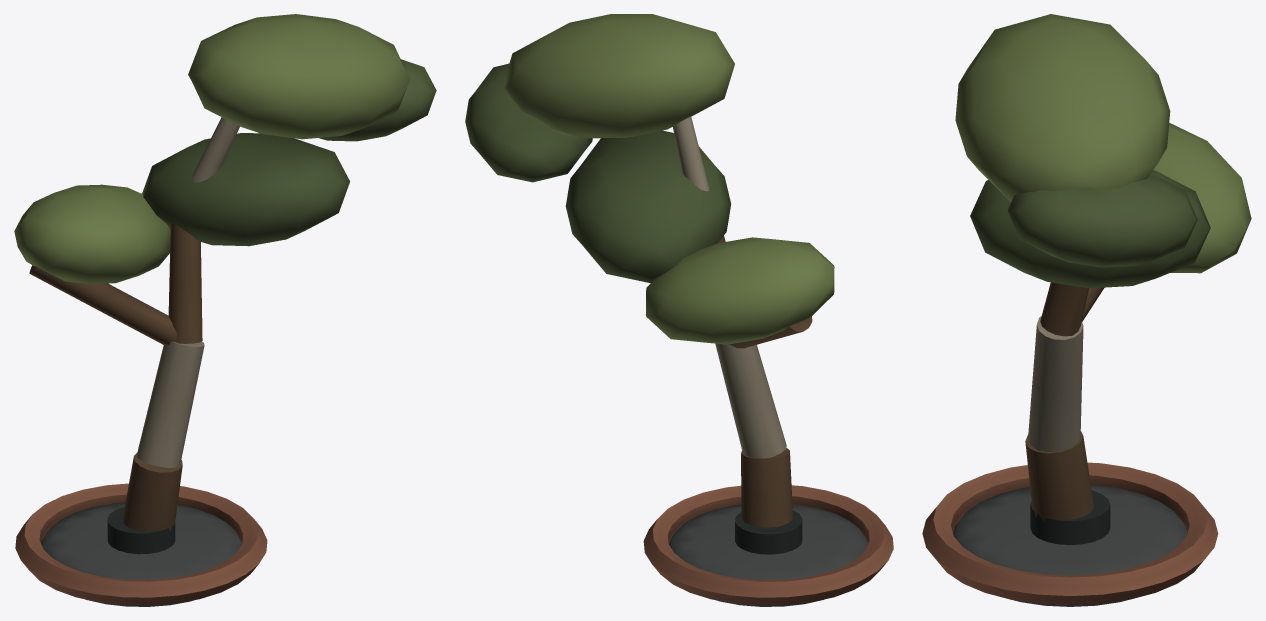
File: juniper_snag_a.glb
3 views of the same model, side by side, from view 1: azimuth 30°, elevation 25°; view 2: azimuth 150°, elevation 25°; view 3: azimuth 270°, elevation 25° (orthographic). The views are drawn at different scales.
Parts seen in each view (by area): view 1: Surface; view 2: Surface; view 3: Surface.
Boxes of the visible parts, box(x1,y1,x2,y2) form: Surface: box(14, 14, 436, 606); Surface: box(465, 14, 893, 606); Surface: box(922, 14, 1251, 606).
Size of the model in its own units: 1.67 by 2.06 by 1.02.
